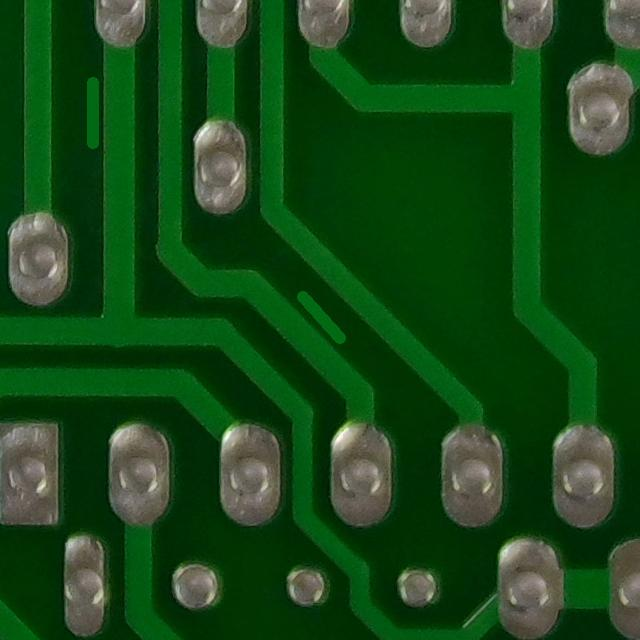spurious_copper: (282, 275, 359, 365)
